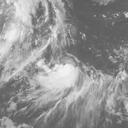cyclone: (32, 63, 102, 114)
